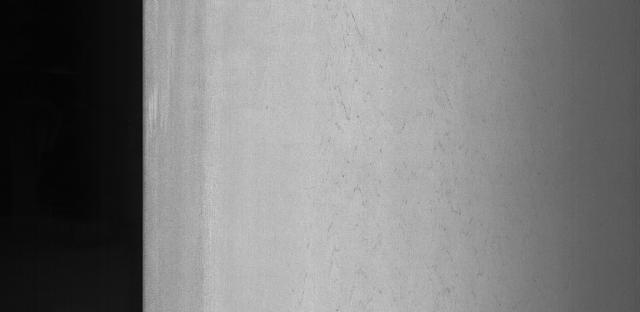silk_spot: (318, 7, 422, 239)
